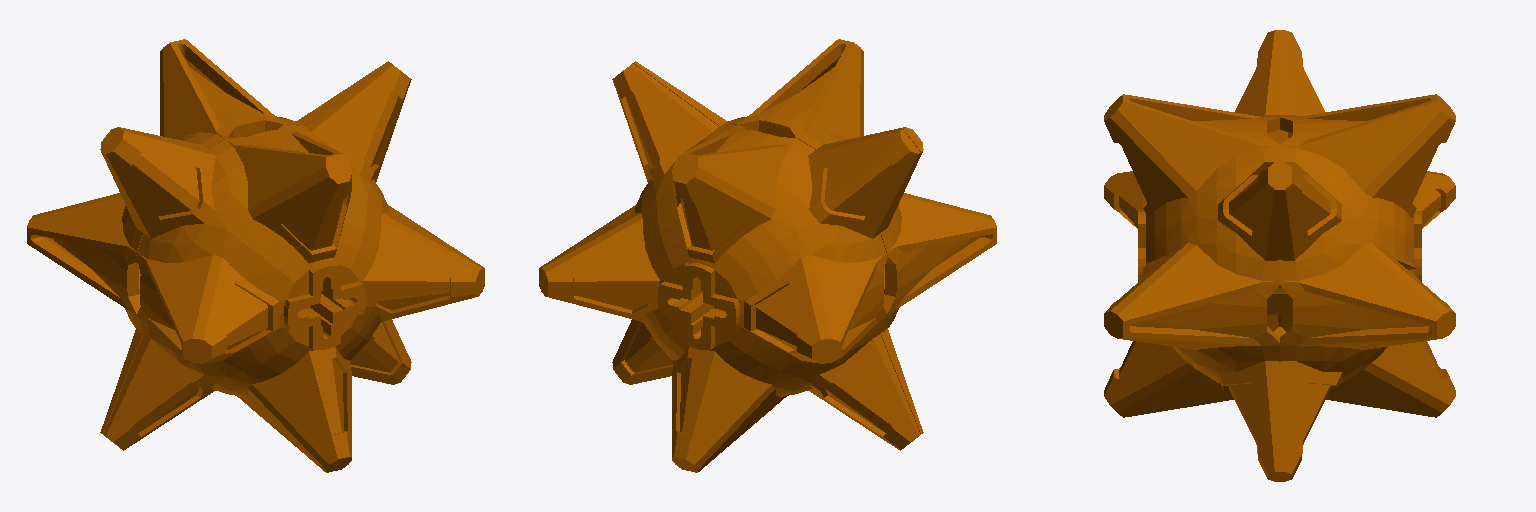
File: enemy_one.obj
The picture shows the model from 3 angles: view 1: azimuth 30°, elevation 25°; view 2: azimuth 150°, elevation 25°; view 3: azimuth 270°, elevation 25°; orthographic projection.
Parts seen in each view (by area): view 1: Inner-Node-ennemy__one_dot_io-0.001; view 2: Inner-Node-ennemy__one_dot_io-0.001; view 3: Inner-Node-ennemy__one_dot_io-0.001.
Part boxes in pixels (left/top/right/bottom): Inner-Node-ennemy__one_dot_io-0.001: left=27, top=39, right=484, bottom=472; Inner-Node-ennemy__one_dot_io-0.001: left=539, top=39, right=996, bottom=472; Inner-Node-ennemy__one_dot_io-0.001: left=1104, top=30, right=1455, bottom=481.
Size of the model in its own units: 0.4985 by 0.4985 by 0.4967.